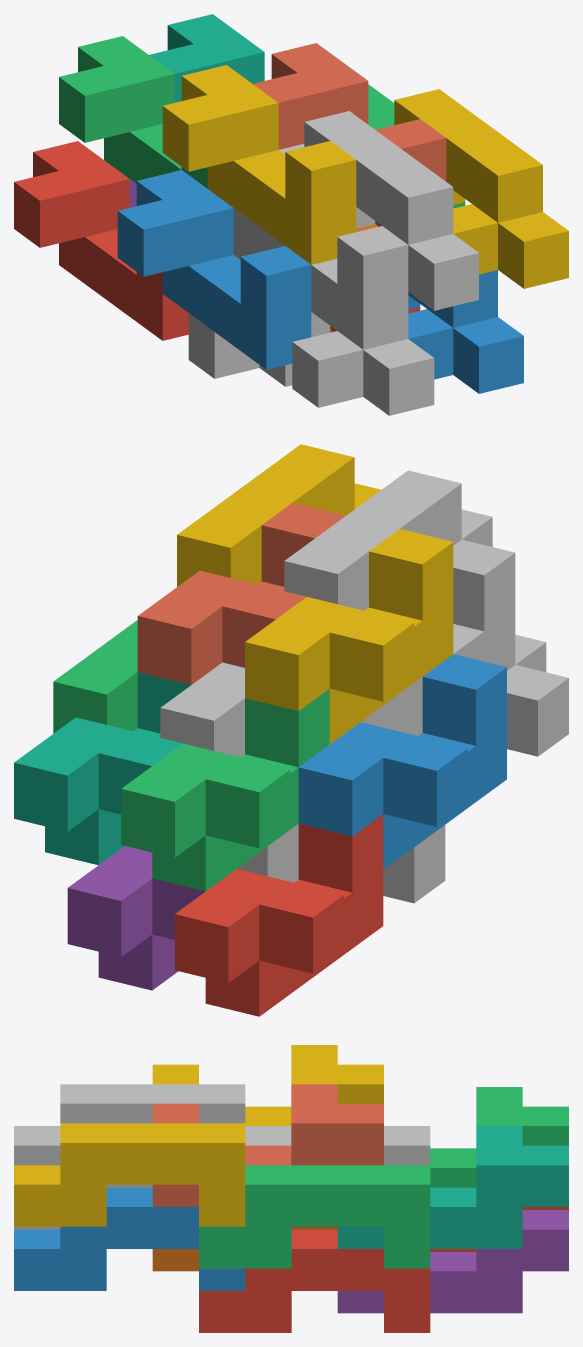
Rendered from tiling.obj.
3 renders of one model, top to bottom at view 1: azimuth 30°, elevation 25°; view 2: azimuth 150°, elevation 25°; view 3: azimuth 270°, elevation 25°, orthographic. The views are drawn at different scales.
Parts seen in each view (by area): view 1: copy_1_domain_4, copy_1_domain_2, copy_2_domain_4, copy_2_domain_8, copy_1_domain_1, copy_2_domain_2, copy_1_domain_3, copy_1_domain_8, copy_2_domain_6, copy_1_domain_7, copy_2_domain_1, copy_2_domain_3 (+1 smaller); view 2: copy_1_domain_1, copy_1_domain_4, copy_1_domain_2, copy_1_domain_3, copy_2_domain_4, copy_1_domain_7, copy_1_domain_8, copy_1_domain_5, copy_2_domain_8, copy_2_domain_2, copy_2_domain_7, copy_2_domain_3 (+1 smaller); view 3: copy_2_domain_8, copy_2_domain_7, copy_2_domain_5, copy_1_domain_7, copy_2_domain_6, copy_1_domain_5, copy_1_domain_8, copy_2_domain_4, copy_1_domain_4, copy_1_domain_3, copy_2_domain_3, copy_1_domain_6 (+1 smaller).
Boxes of the visible parts, bbox=[...] form: copy_1_domain_4: bbox=[162, 65, 356, 264]; copy_1_domain_2: bbox=[117, 170, 311, 369]; copy_2_domain_4: bbox=[304, 111, 478, 310]; copy_2_domain_8: bbox=[394, 89, 568, 288]; copy_1_domain_1: bbox=[14, 141, 188, 340]; copy_2_domain_2: bbox=[259, 227, 434, 415]; copy_1_domain_3: bbox=[59, 36, 207, 188]; copy_1_domain_8: bbox=[253, 43, 446, 226]; copy_2_domain_6: bbox=[408, 270, 523, 393]; copy_1_domain_7: bbox=[149, 14, 264, 102]; copy_2_domain_1: bbox=[188, 313, 330, 386]; copy_2_domain_3: bbox=[233, 144, 304, 259]; copy_1_domain_1: bbox=[175, 814, 383, 1016]; copy_1_domain_4: bbox=[245, 529, 453, 744]; copy_1_domain_2: bbox=[298, 654, 506, 869]; copy_1_domain_3: bbox=[121, 689, 329, 891]; copy_2_domain_4: bbox=[284, 470, 515, 631]; copy_1_domain_7: bbox=[14, 672, 190, 865]; copy_1_domain_8: bbox=[137, 502, 345, 684]; copy_1_domain_5: bbox=[67, 846, 205, 990]; copy_2_domain_8: bbox=[177, 444, 381, 586]; copy_2_domain_2: bbox=[391, 609, 568, 756]; copy_2_domain_7: bbox=[53, 620, 137, 733]; copy_2_domain_3: bbox=[160, 662, 391, 757]; copy_2_domain_8: bbox=[14, 1123, 245, 1226]; copy_2_domain_7: bbox=[199, 1165, 430, 1268]; copy_2_domain_5: bbox=[199, 1229, 430, 1332]; copy_1_domain_7: bbox=[337, 1126, 568, 1248]; copy_2_domain_6: bbox=[14, 1187, 245, 1290]; copy_1_domain_5: bbox=[337, 1210, 568, 1313]; copy_1_domain_8: bbox=[152, 1084, 383, 1206]; copy_2_domain_4: bbox=[14, 1084, 245, 1165]; copy_1_domain_4: bbox=[152, 1045, 383, 1125]; copy_1_domain_3: bbox=[430, 1087, 568, 1187]; copy_2_domain_3: bbox=[245, 1126, 430, 1165]; copy_1_domain_6: bbox=[152, 1226, 337, 1271].
Bounding box in the file's own units: 6 × 5 × 12.
